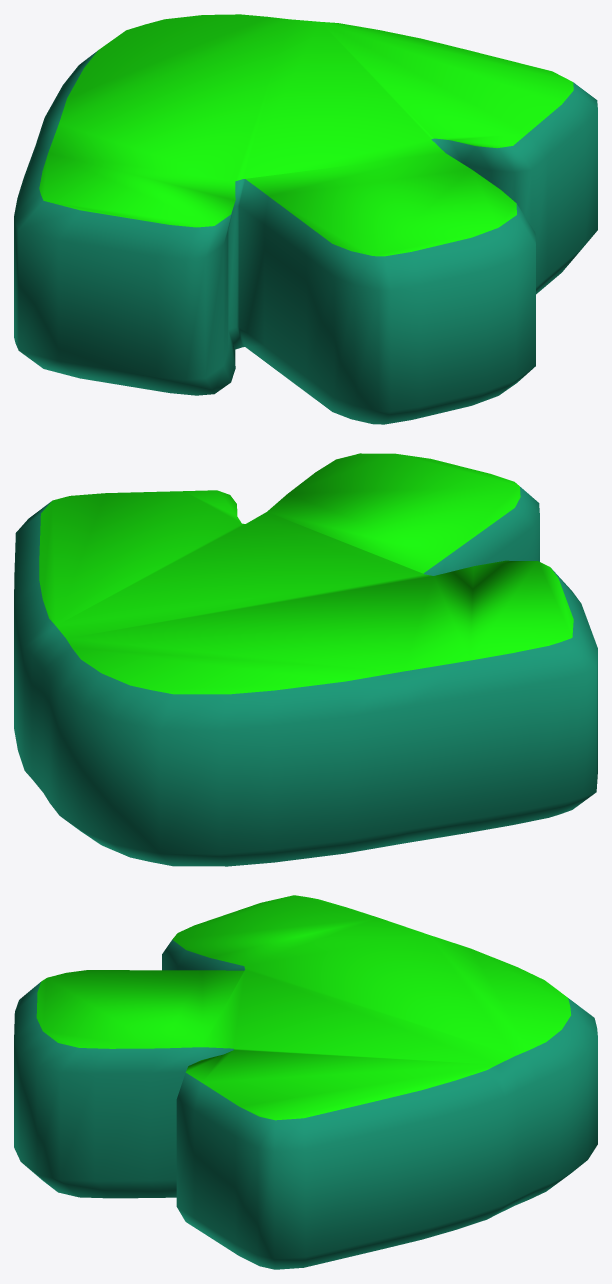
File: Arrow.gltf
3 renders of one model, top to bottom at view 1: azimuth 30°, elevation 25°; view 2: azimuth 150°, elevation 25°; view 3: azimuth 270°, elevation 25°, orthographic. The views are drawn at different scales.
Parts seen in each view (by area): view 1: polyline12.001; view 2: polyline12.001; view 3: polyline12.001.
Boxes of the visible parts, bbox=[...] form: polyline12.001: bbox=[14, 14, 597, 424]; polyline12.001: bbox=[14, 453, 597, 866]; polyline12.001: bbox=[14, 895, 597, 1269].
Size of the model in its own units: 250 by 71 by 251.
1 material, 1 textured.
